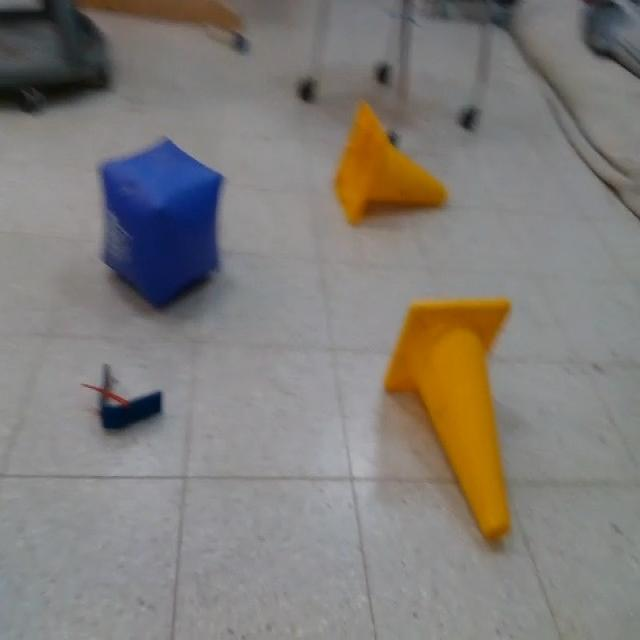cone: (386, 296, 512, 539), (336, 103, 448, 224)
cube: (101, 140, 226, 308)
